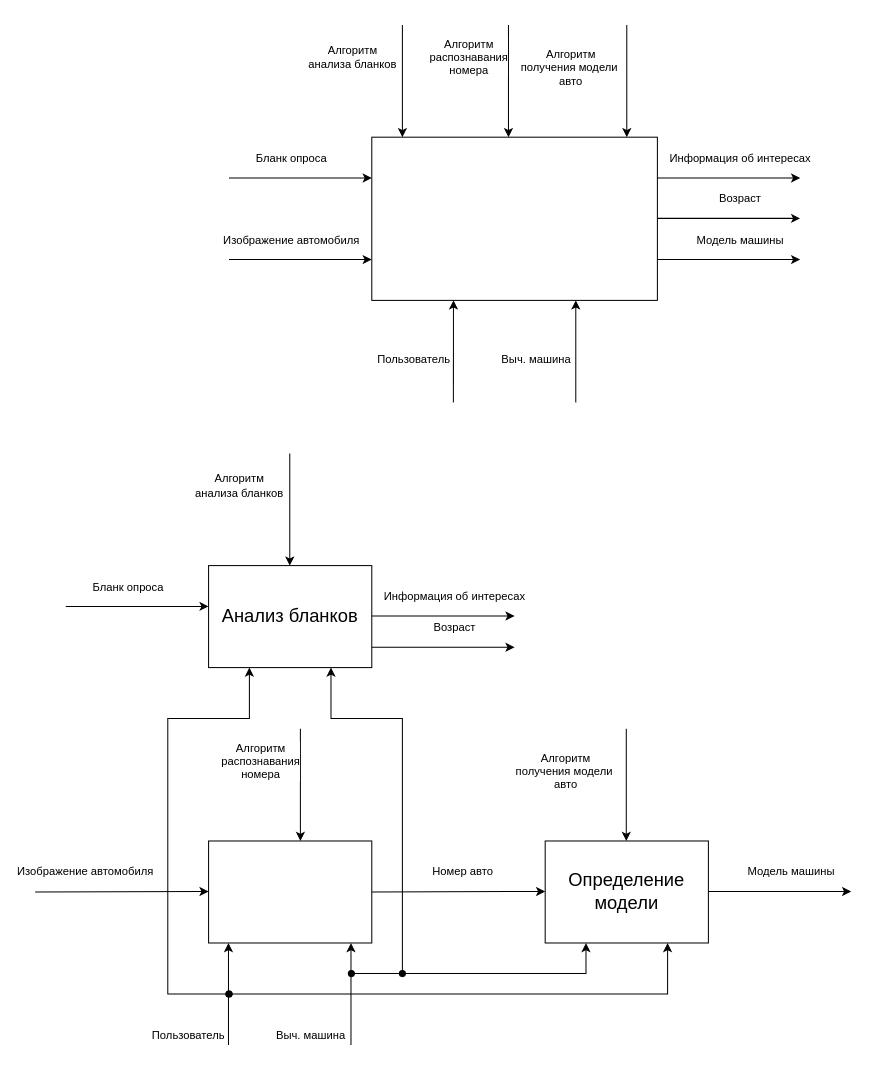
Some shapes in this 878 by 1071 pixel diagram are drawn without their labels. The centre of each missing label's shape, as x and y in pixels:
"Распознавание номера" goes at (290,891).
"Собрать данные" goes at (514,218).
